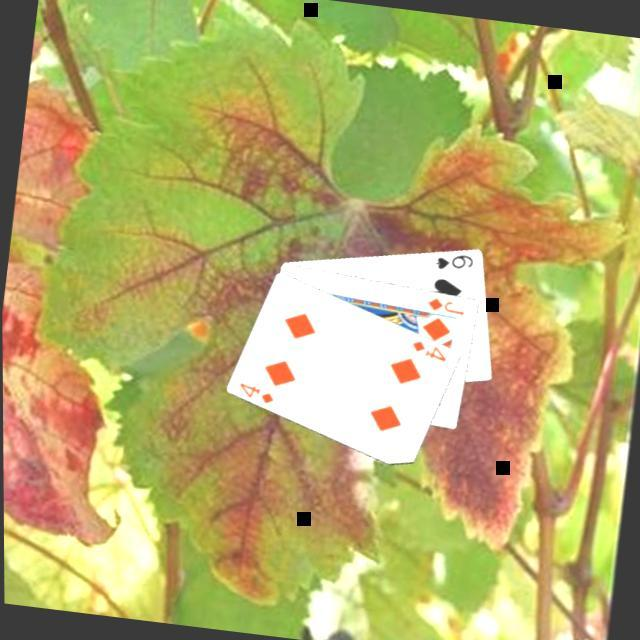4D: (232, 376, 277, 405), (405, 333, 449, 362)
6S: (430, 245, 474, 273)
JD: (421, 290, 465, 316)
